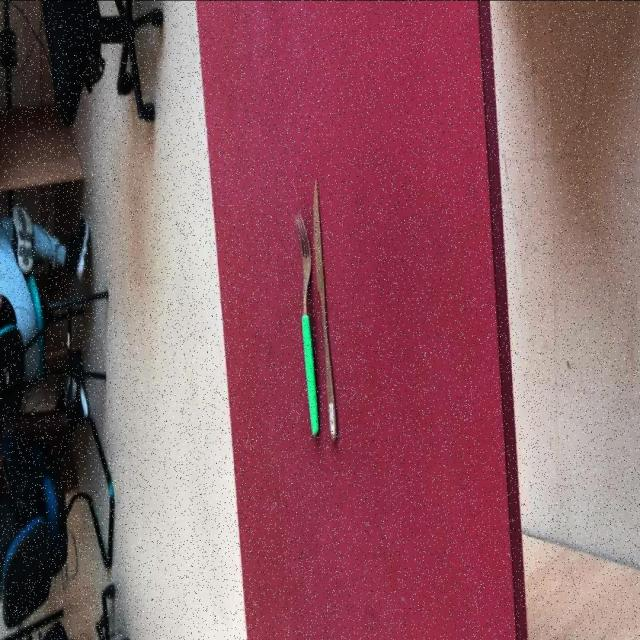Fork: (293, 211, 319, 438)
Knife: (312, 178, 338, 444)
